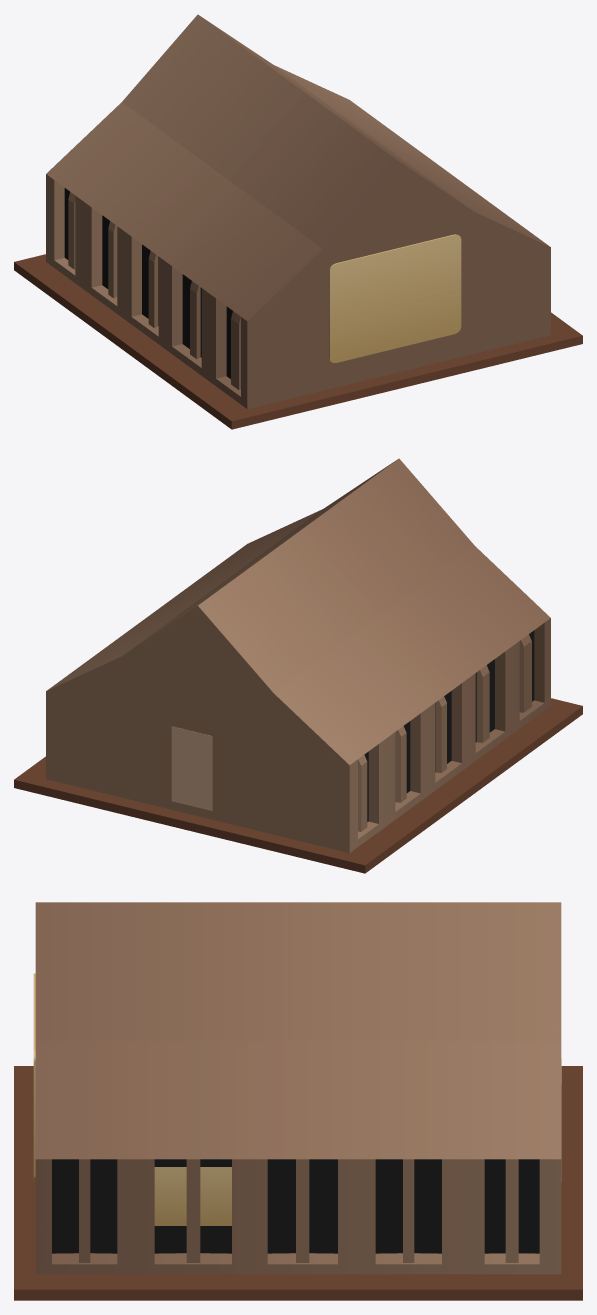
File: RUMAH ADAT BETANG DALAM V3.fbx
3 views of the same model, one above another, from view 1: azimuth 30°, elevation 25°; view 2: azimuth 150°, elevation 25°; view 3: azimuth 270°, elevation 25° (orthographic). The views are drawn at different scales.
Parts seen in each view (by area): view 1: Cube.003, Cube.017; view 2: Cube.003, Cube.010; view 3: Cube.003, Cube.015, Cube.017.
Boxes of the visible parts, x1,y1,x2,y2 form: Cube.003: (14, 14, 582, 429); Cube.017: (329, 234, 461, 362); Cube.003: (14, 458, 582, 873); Cube.010: (171, 726, 212, 810); Cube.003: (14, 902, 582, 1300); Cube.015: (154, 1167, 231, 1225); Cube.017: (33, 973, 35, 1180).
Bounding box in the file's own units: 2011 × 1199 × 2161.
